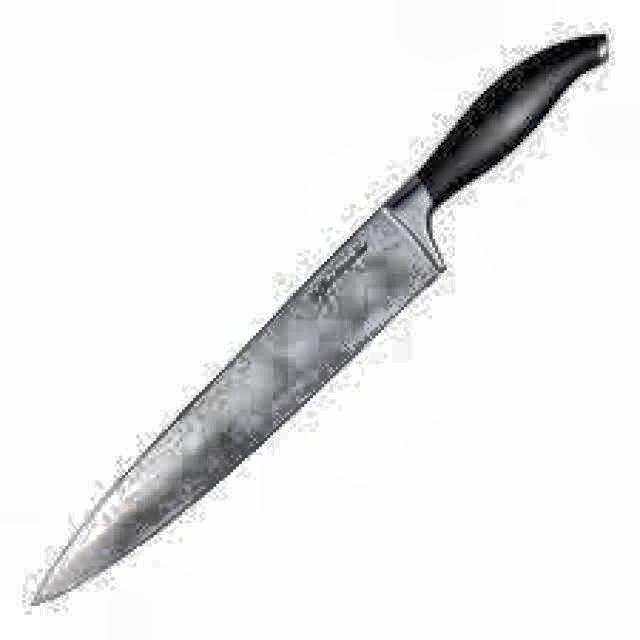knife: (35, 28, 616, 609)
